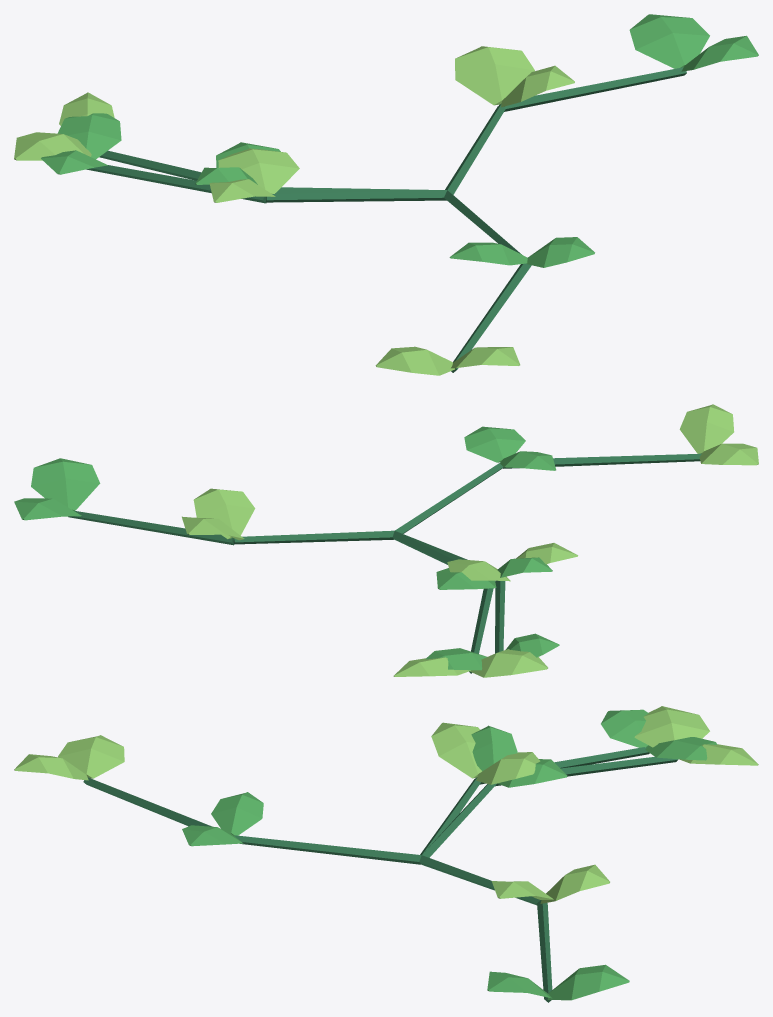
The model's file is plant_creeper_a.glb.
3 views of the same model, one above another, from view 1: azimuth 30°, elevation 25°; view 2: azimuth 150°, elevation 25°; view 3: azimuth 270°, elevation 25° (orthographic). The views are drawn at different scales.
Visible parts, largest first — view 1: PlantCreeperA; view 2: PlantCreeperA; view 3: PlantCreeperA.
Part boxes in pixels (x1,y1,x2,y2): PlantCreeperA: [14, 14, 758, 375]; PlantCreeperA: [14, 404, 758, 677]; PlantCreeperA: [14, 706, 758, 1002].
Bounding box in the file's own units: 1.19 × 0.0979 × 1.24.
